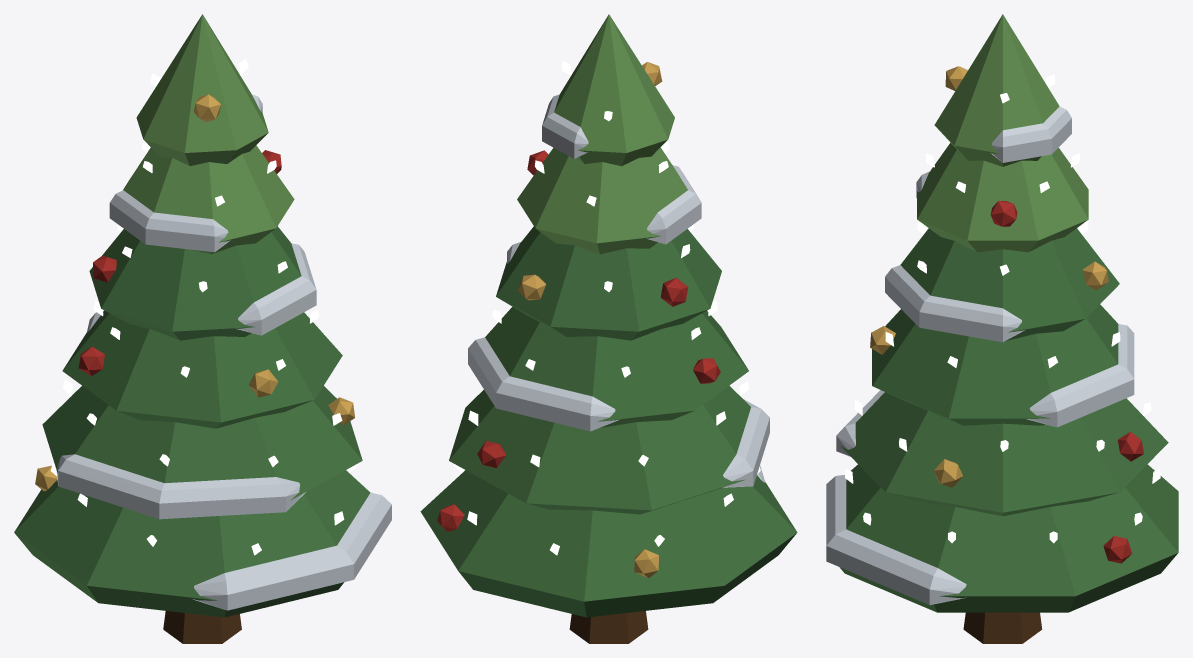
The model's file is xmas-fir-tree.glb.
3 renders of one model, left to right at view 1: azimuth 30°, elevation 25°; view 2: azimuth 150°, elevation 25°; view 3: azimuth 270°, elevation 25°, orthographic.
Bounding box in the file's own units: 1.3 × 2.5 × 1.3.
